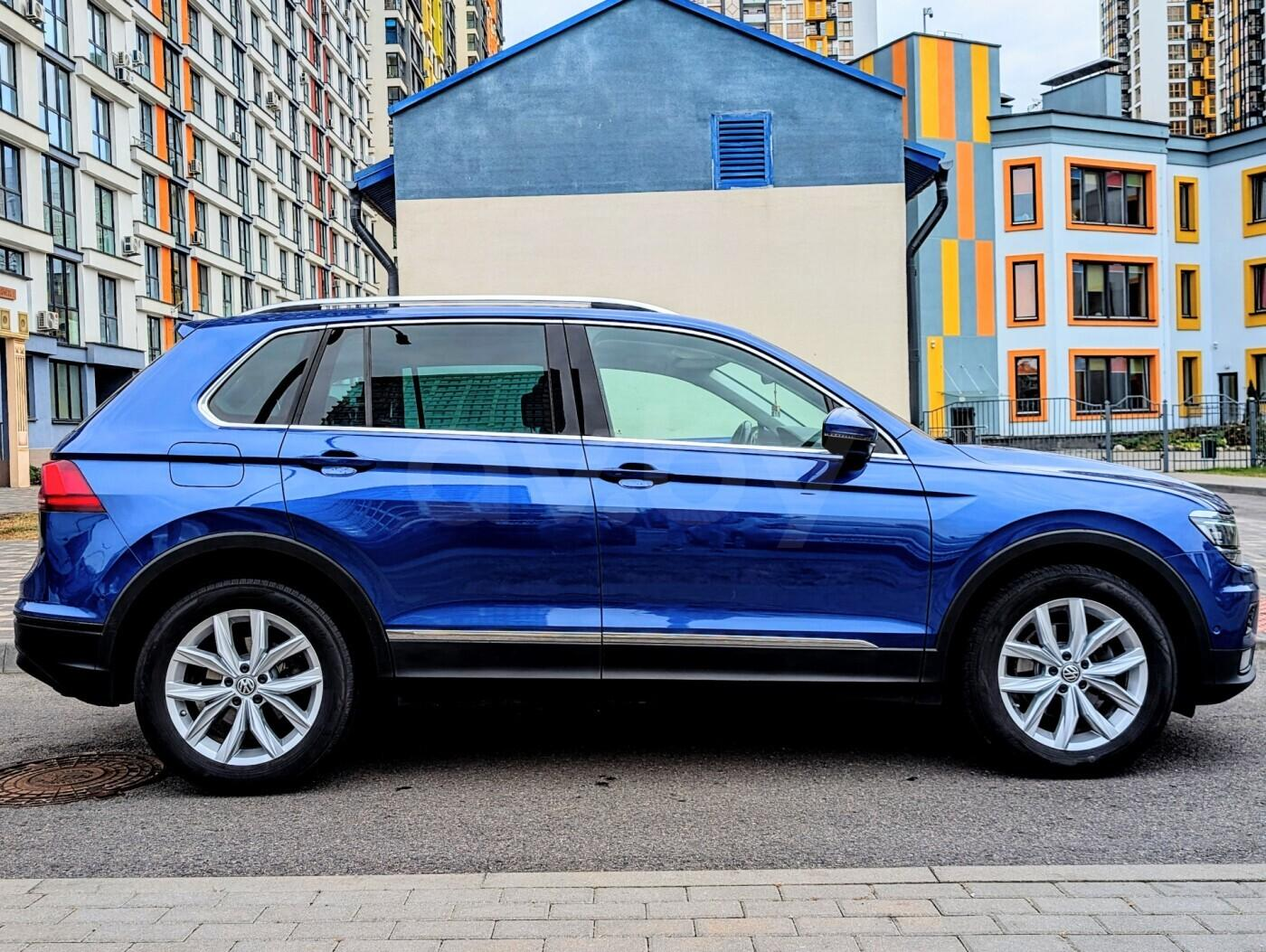Tiguan_2016-2021: (15, 297, 1266, 790)
